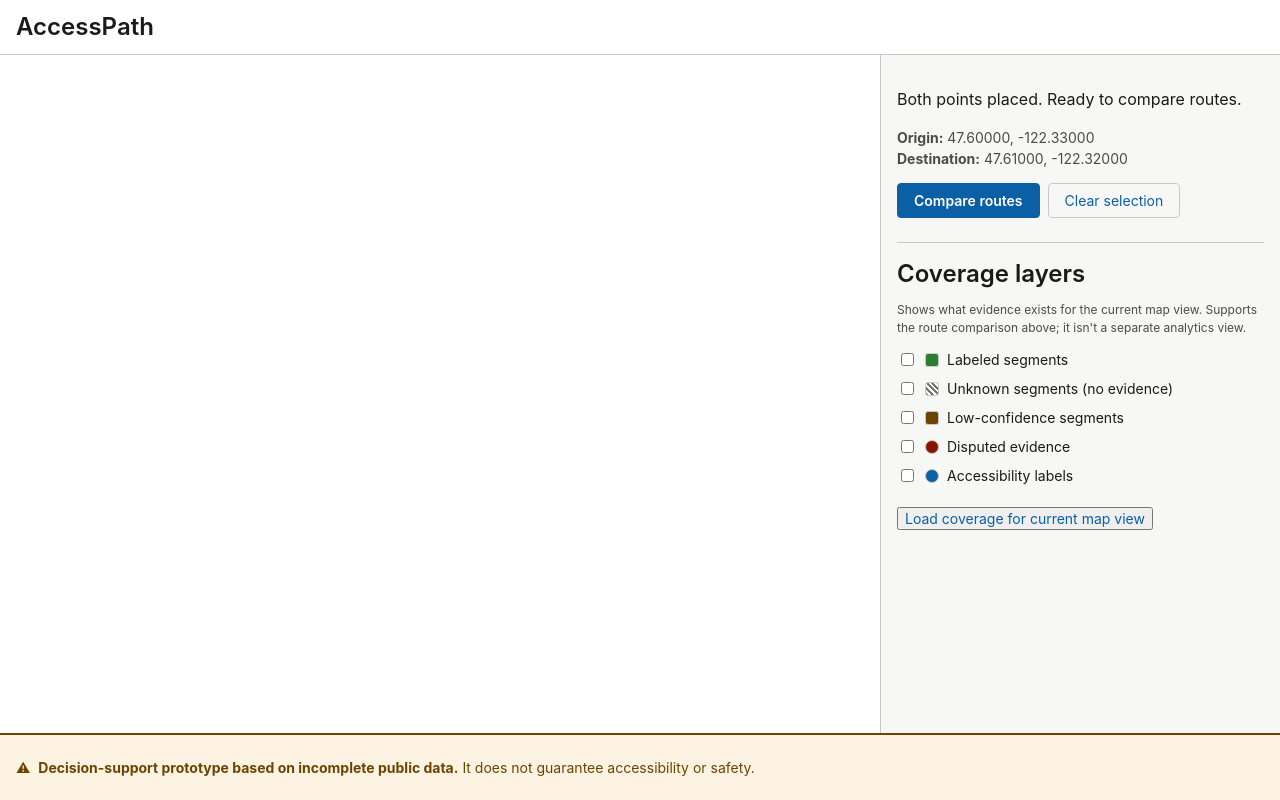
Test: App › discloses a connectivity snap adjustment with distance and unconstrained comparison
The width and height of the screenshot is (1280, 800).
Step 1. Click the button "Compare routes" → x=968, y=200, box 897,183 -> 1040,218
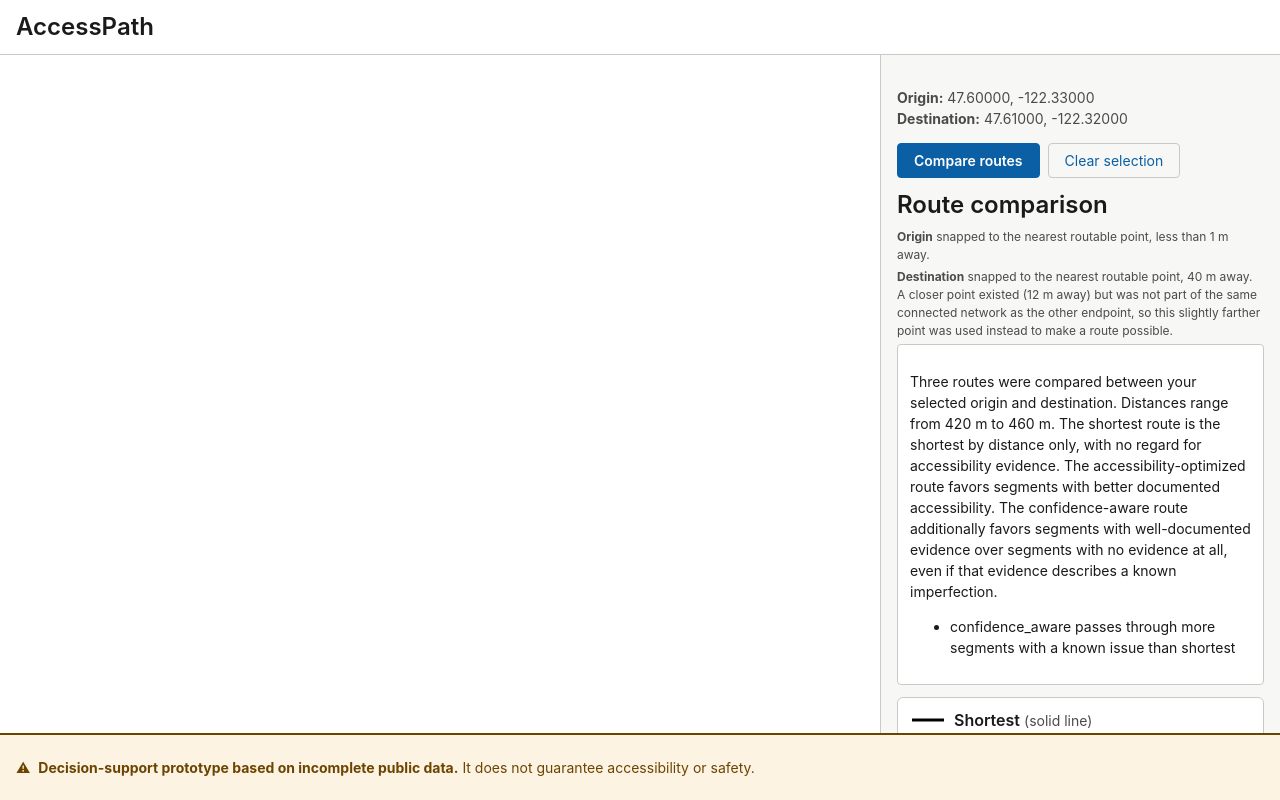
Expected: the heading "Route comparison" is shown, 897,190 -> 1108,219
Result: the text "40 m away" is shown at 897,268 -> 1264,340
